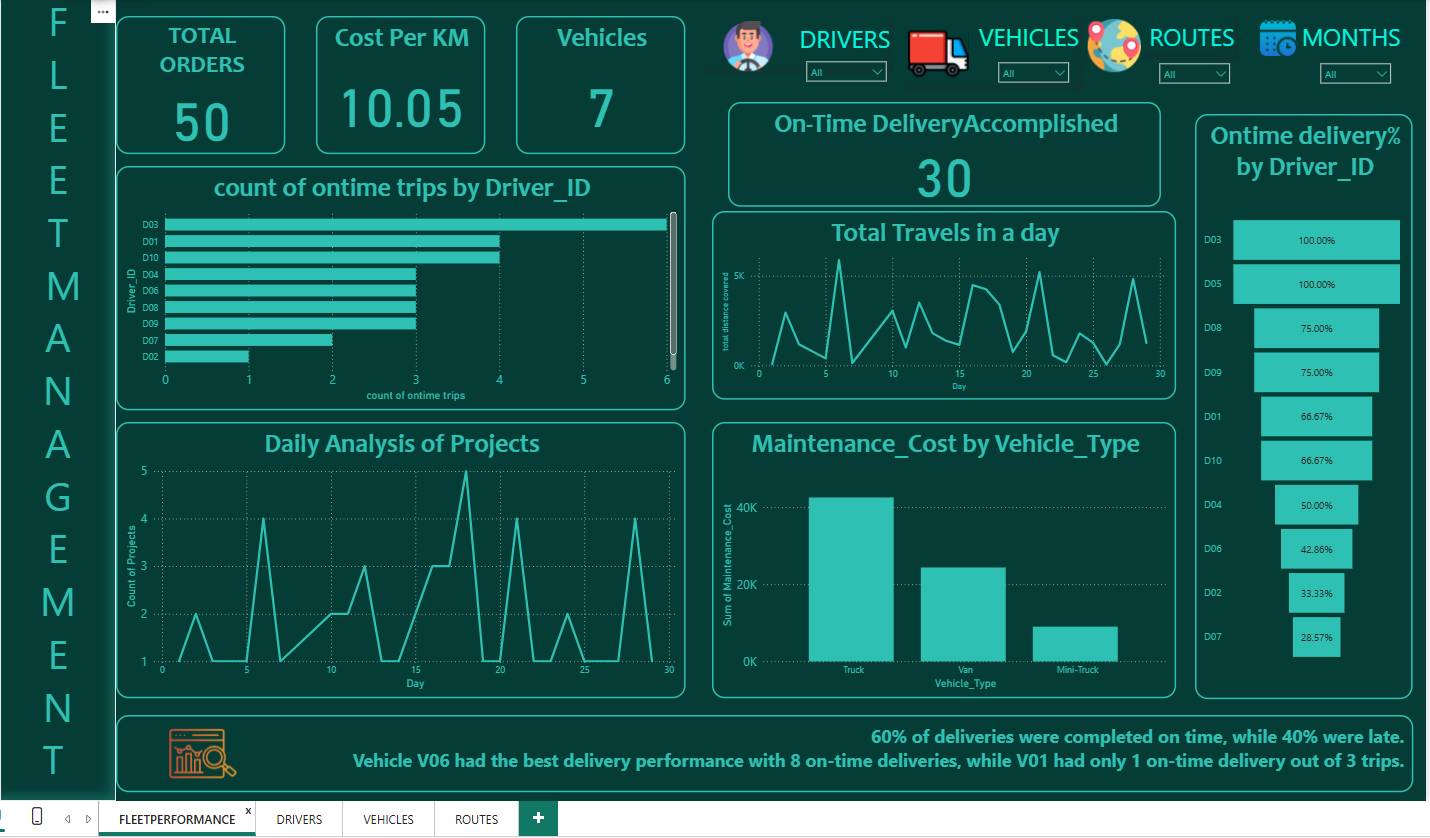

This screenshot's page, from the dashboard's own definition file:
{"tool":"powerbi","page":{"name":"FLEETPERFORMANCE","canvas":[1920,1080],"ordinal":0},"visuals":[{"type":"textbox","box":[0,0,155.9,1079.8],"z":0},{"type":"textbox","box":[1748.2,23.1,154.5,59.2],"z":0,"group":"g1"},{"type":"textbox","box":[1459.5,23.1,207.9,59.2],"z":1000},{"type":"actionButton","box":[1683.2,23.1,75.1,59.2],"z":1000,"group":"g1"},{"type":"textbox","box":[947,25.6,257.2,75.9],"z":1000,"group":"g4"},{"type":"actionButton","box":[980.2,8.7,225.2,67.8],"z":2000},{"type":"textbox","box":[1218.7,23.2,239.6,100.9],"z":2000,"group":"g3"},{"type":"actionButton","box":[1683.2,23.1,219.4,59.2],"z":3000},{"type":"group","id":"g1","title":"Group 1","box":[1683.2,23.1,219.4,59.2],"z":4000},{"type":"actionButton","box":[1218.4,23.1,241.1,100.2],"z":5000,"group":"g3"},{"type":"group","id":"g2","title":"Group 2","box":[1459.5,23.1,226.6,101.1],"z":5000},{"type":"group","id":"g3","title":"Group 3","box":[1218.4,23.1,241.1,101.1],"z":6000},{"type":"actionButton","box":[1459.5,23.1,226.6,101.1],"z":6000,"group":"g2"},{"type":"actionButton","box":[966.3,25.6,83.6,75.9],"z":6000,"group":"g4"},{"type":"group","id":"g4","title":"Group 4","box":[945.9,17.6,259.8,116.9],"z":7000},{"type":"actionButton","box":[1218.7,23.2,89.8,100.9],"z":7000,"group":"g3"},{"type":"card","title":"TOTAL ORDERS","fields":{"Values":["measure.Total Trips"]},"box":[155.9,23.1,228.1,186.2],"z":8000},{"type":"card","title":"Cost Per KM","fields":{"Values":["measure.cost per km"]},"box":[425.9,23.1,228.1,186.2],"z":9000},{"type":"actionButton","box":[1459.5,23.1,82.3,79.7],"z":9000,"group":"g2"},{"type":"card","title":"Vehicles","fields":{"Values":["measure.Total vehicles"]},"box":[694.4,23.1,228.1,186.2],"z":10000},{"type":"actionButton","box":[945.9,17.6,259.8,116.9],"z":10003,"group":"g4"},{"type":"slicer","fields":{"Values":["Table1.Driver_ID"]},"box":[1075.5,73.6,128.5,43.3],"z":11000},{"type":"slicer","fields":{"Values":["Vehicle_Master.Vehicle_ID"]},"box":[1333.9,75.1,115.5,41.9],"z":12000},{"type":"slicer","fields":{"Values":["Table1.Route"]},"box":[1551.9,76.5,115.5,40.4],"z":13000},{"type":"slicer","fields":{"Values":["Table1.Delivery_Date.Variation.Date Hierarchy.Month"]},"box":[1768.4,76.5,115.5,40.4],"z":14000},{"type":"barChart","fields":{"Category":["Table1.Driver_ID"],"Y":["measure.count of ontime trips"]},"box":[155.9,225.2,766.6,329.1],"z":15000},{"type":"lineChart","title":"Daily Analysis of Projects ","fields":{"Category":["Table1.Delivery_Date.Variation.Date Hierarchy.Day"],"Y":["CountNonNull(Table1.Projects)"]},"box":[155.9,570.2,766.6,372.5],"z":16000},{"type":"clusteredColumnChart","title":"Maintenance_Cost by Vehicle_Type","fields":{"Category":["Vehicle_Master.Vehicle_Type"],"Y":["Sum(Vehicle_Master.Maintenance_Cost)"]},"box":[958.6,570.2,625.1,372.5],"z":17000},{"type":"lineChart","title":"Total Travels in a day","fields":{"Category":["Table1.Delivery_Date.Variation.Date Hierarchy.Day"],"Y":["measure.total distance covered"]},"box":[958.6,285.8,625.1,254.1],"z":18000},{"type":"funnel","fields":{"Category":["Table1.Driver_ID"],"Y":["measure.Ontime delivery%"]},"box":[1609.6,154.5,293.1,788.2],"z":19000},{"type":"card","title":"On-Time DeliveryAccomplished","fields":{"Values":["measure.count of ontime trips"]},"box":[980.2,138.6,583.2,141.5],"z":20000},{"type":"textbox","box":[155.9,964.3,1746.8,103.9],"z":22000},{"type":"actionButton","box":[176.1,964.3,193.4,103.9],"z":23000}]}

Visuals, with their boxes on the page's 1920x1080 design canvas (x1, y1, x2, y2). These are canvas units, not pixel positions in the 1430x838 screenshot, which may show the page scaled, cropped or inside an application window:
textbox: 0/0/156/1080
textbox: 1748/23/1903/82
textbox: 1460/23/1667/82
actionButton: 1683/23/1758/82
textbox: 947/26/1204/102
actionButton: 980/9/1205/76
textbox: 1219/23/1458/124
actionButton: 1683/23/1903/82
"Group 1" group: 1683/23/1903/82
actionButton: 1218/23/1460/123
"Group 2" group: 1460/23/1686/124
"Group 3" group: 1218/23/1460/124
actionButton: 1460/23/1686/124
actionButton: 966/26/1050/102
"Group 4" group: 946/18/1206/134
actionButton: 1219/23/1308/124
"TOTAL ORDERS" card: 156/23/384/209
"Cost Per KM" card: 426/23/654/209
actionButton: 1460/23/1542/103
"Vehicles" card: 694/23/922/209
actionButton: 946/18/1206/134
slicer - Table1.Driver_ID: 1076/74/1204/117
slicer - Vehicle_Master.Vehicle_ID: 1334/75/1449/117
slicer - Table1.Route: 1552/76/1667/117
slicer - Table1.Delivery_Date.Variation.Date Hierarchy.Month: 1768/76/1884/117
barChart - Table1.Driver_ID x measure.count of ontime trips: 156/225/922/554
"Daily Analysis of Projects " lineChart: 156/570/922/943
"Maintenance_Cost by Vehicle_Type" clusteredColumnChart: 959/570/1584/943
"Total Travels in a day" lineChart: 959/286/1584/540
funnel - Table1.Driver_ID x measure.Ontime delivery%: 1610/154/1903/943
"On-Time DeliveryAccomplished" card: 980/139/1563/280
textbox: 156/964/1903/1068
actionButton: 176/964/370/1068
